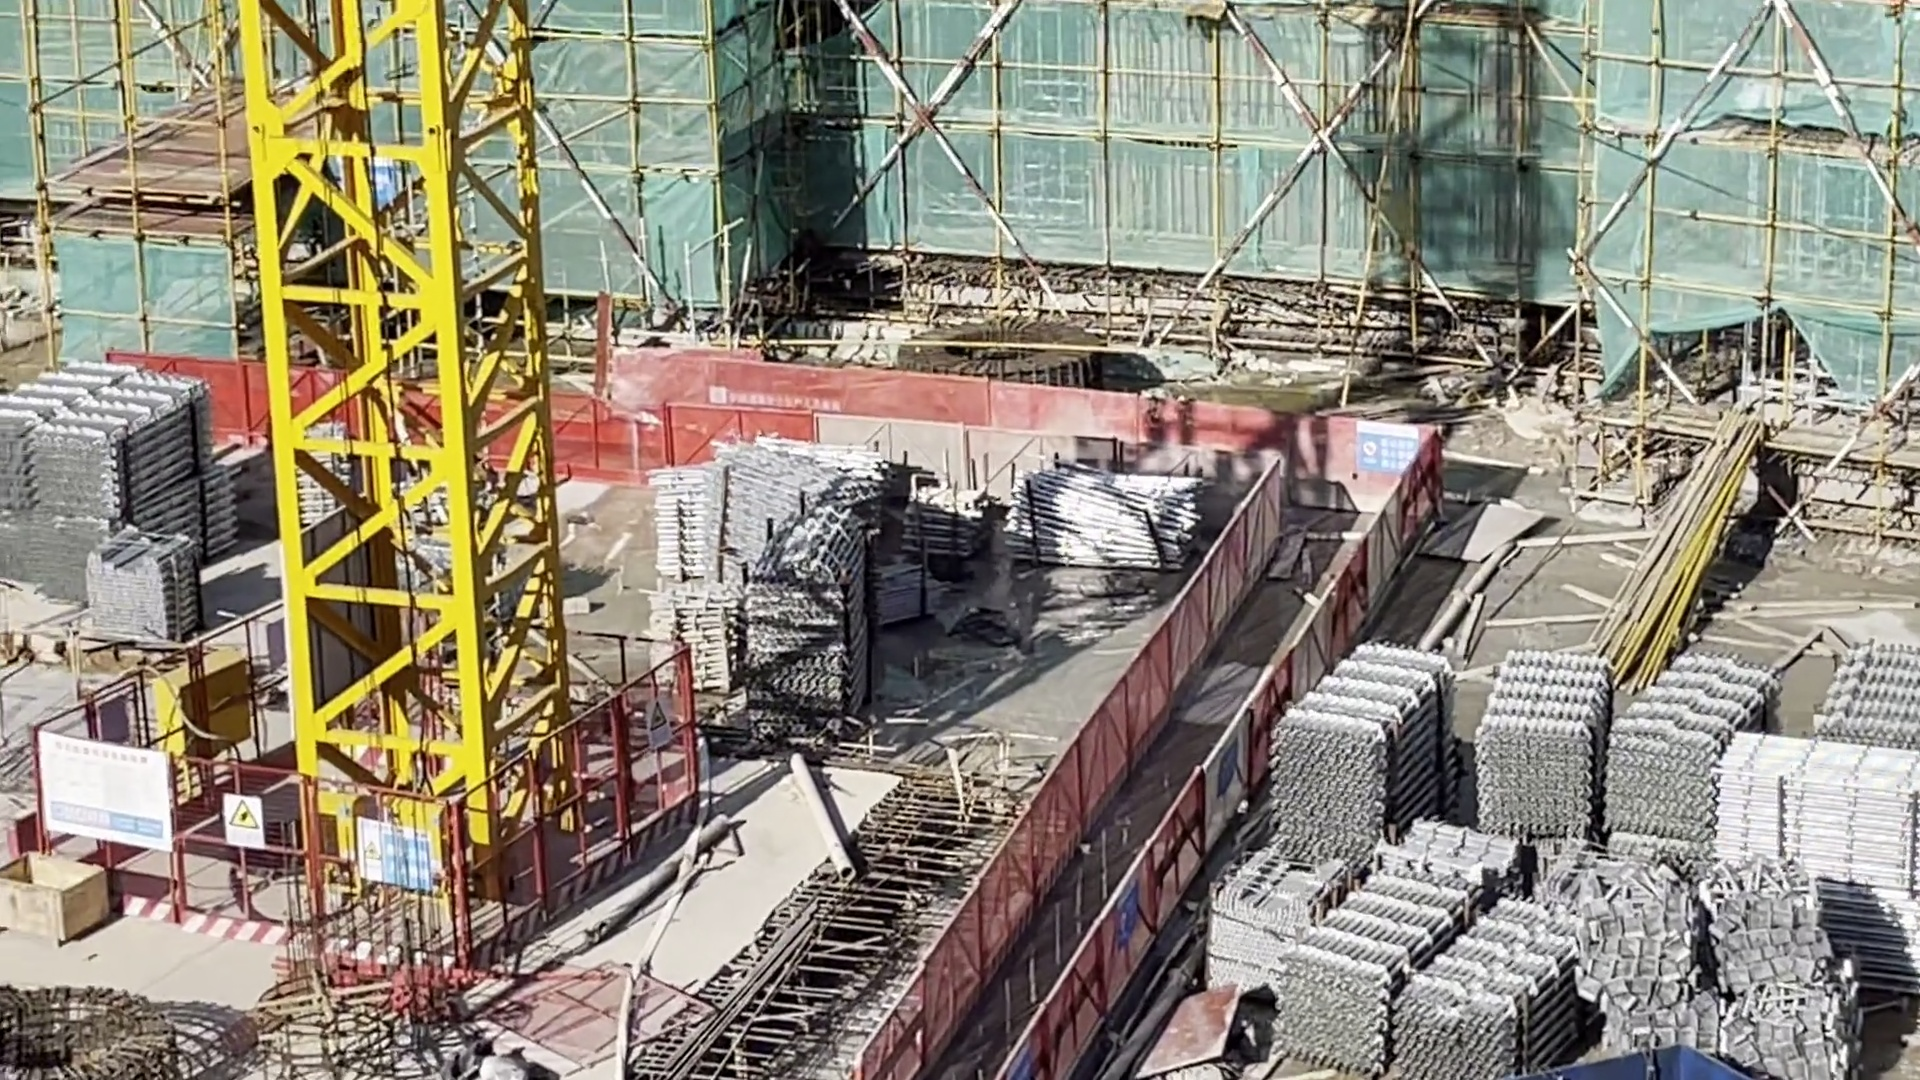ebox: (152, 662, 255, 753)
fence: (865, 458, 1423, 1080), (555, 351, 1346, 489)
scaffold: (1282, 873, 1589, 1079), (1721, 731, 1920, 993), (1, 368, 229, 578), (1282, 647, 1455, 858), (1613, 651, 1771, 847), (655, 462, 866, 579), (1481, 647, 1609, 835), (746, 520, 866, 719), (1011, 469, 1192, 576), (87, 538, 198, 636), (1822, 642, 1920, 746), (655, 588, 746, 696), (905, 484, 986, 564)
slogan: (365, 825, 442, 893), (1354, 425, 1415, 472), (1113, 877, 1139, 947), (225, 791, 261, 843), (646, 700, 670, 746)
